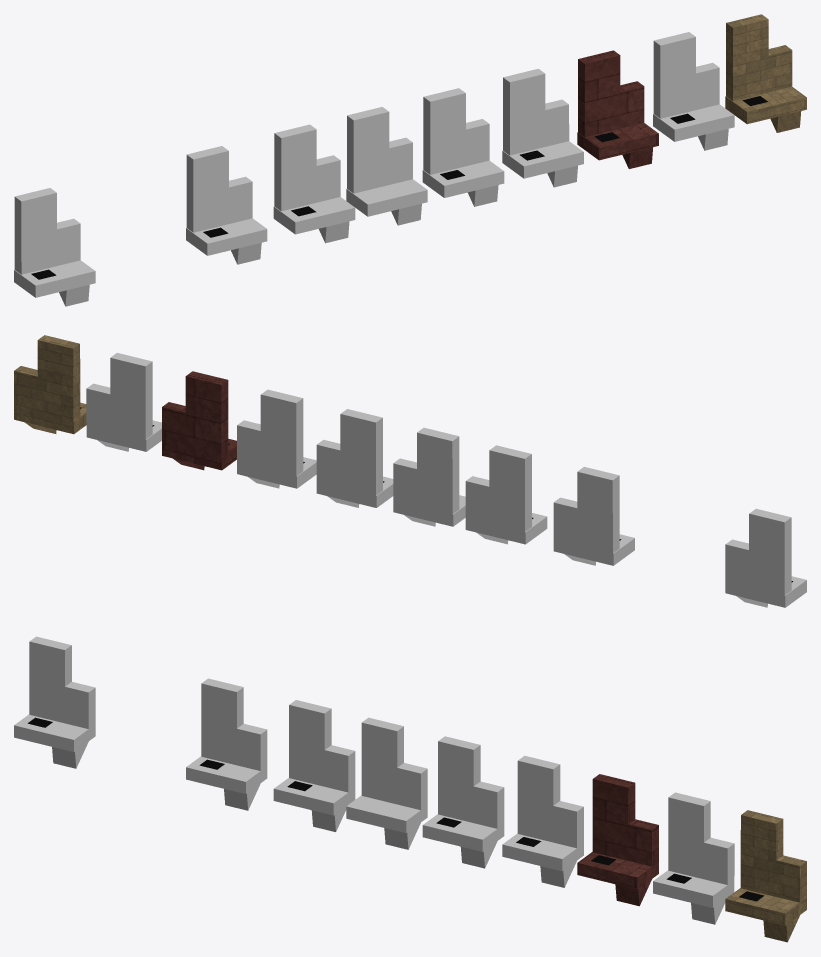
File: crenationMachicolation.fbx
3 renders of one model, top to bottom at view 1: azimuth 30°, elevation 25°; view 2: azimuth 150°, elevation 25°; view 3: azimuth 330°, elevation 25°, orthographic.
Parts seen in each view (by area): view 1: rampart_wam (×9), plancher1_wam (×9); view 2: rampart_wam (×9), plancher1_wam (×9); view 3: rampart_wam (×9), plancher1_wam (×9).
Part boxes in pixels (x1,y1,x2,y2): rampart_wam (×9): [14, 14, 792, 274]; plancher1_wam (×9): [14, 87, 806, 297]; rampart_wam (×9): [14, 335, 791, 595]; plancher1_wam (×9): [14, 402, 806, 607]; rampart_wam (×9): [29, 636, 806, 902]; plancher1_wam (×9): [14, 714, 806, 925].
Bounding box in the file's own units: 2337 × 307 × 113.
